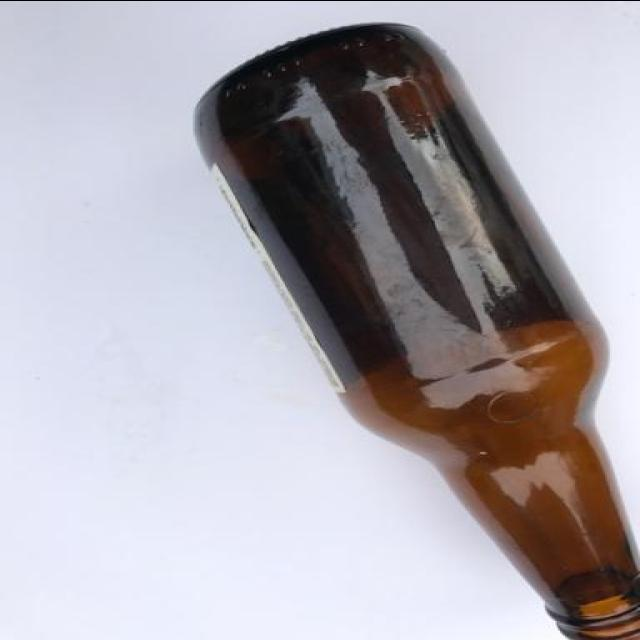Glass Bottle: (195, 22, 637, 640)
